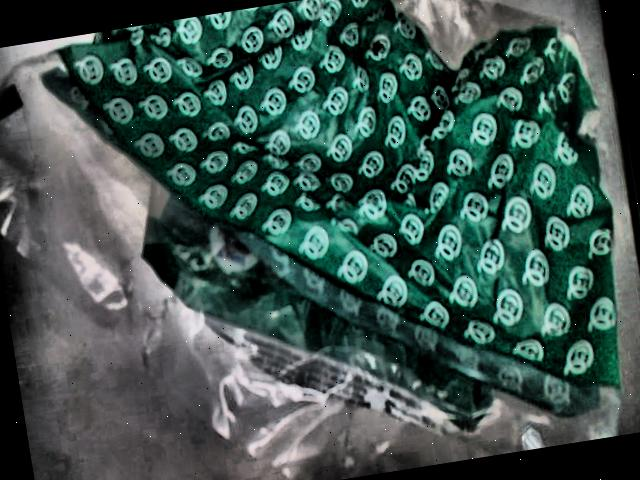Plastic: (0, 0, 626, 480)
